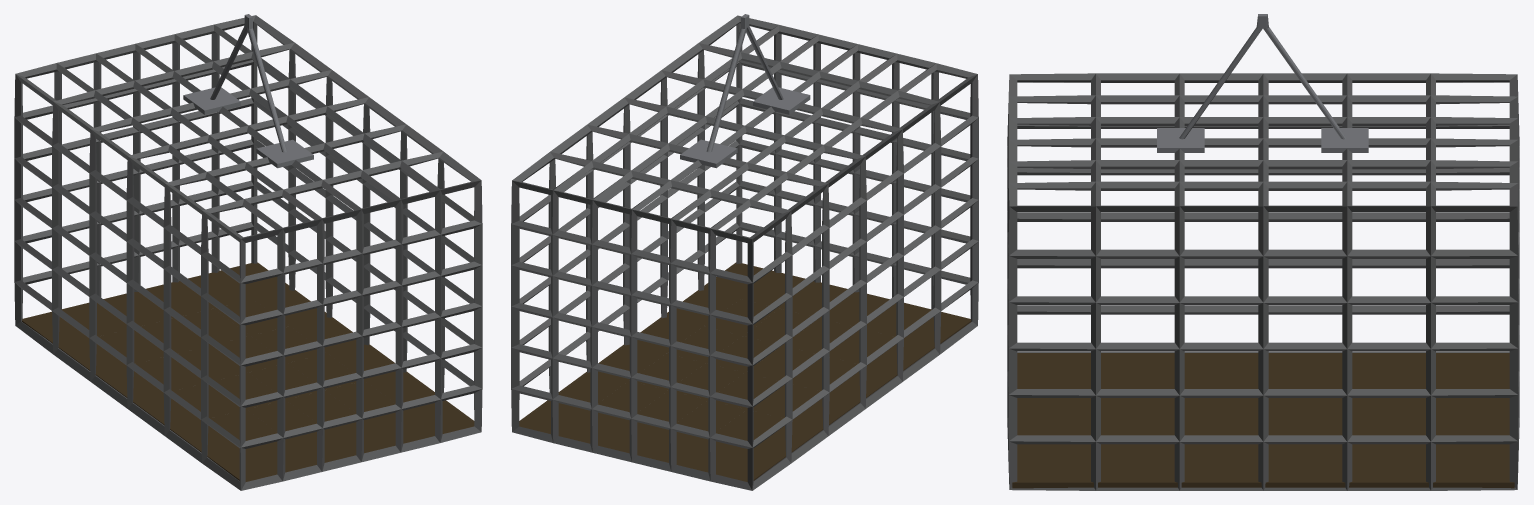
Rendered from Cage_1.fbx.
The picture shows the model from 3 angles, left to right: view 1: azimuth 30°, elevation 25°; view 2: azimuth 150°, elevation 25°; view 3: azimuth 270°, elevation 25°; orthographic projection. The views are drawn at different scales.
Parts seen in each view (by area): view 1: Cage_1; view 2: Cage_1; view 3: Cage_1.
Boxes of the visible parts, x1,y1,x2,y2 form: Cage_1: [14, 14, 482, 490]; Cage_1: [511, 14, 978, 490]; Cage_1: [1007, 14, 1519, 490].
Size of the model in its own units: 70.74 by 101 by 114.
